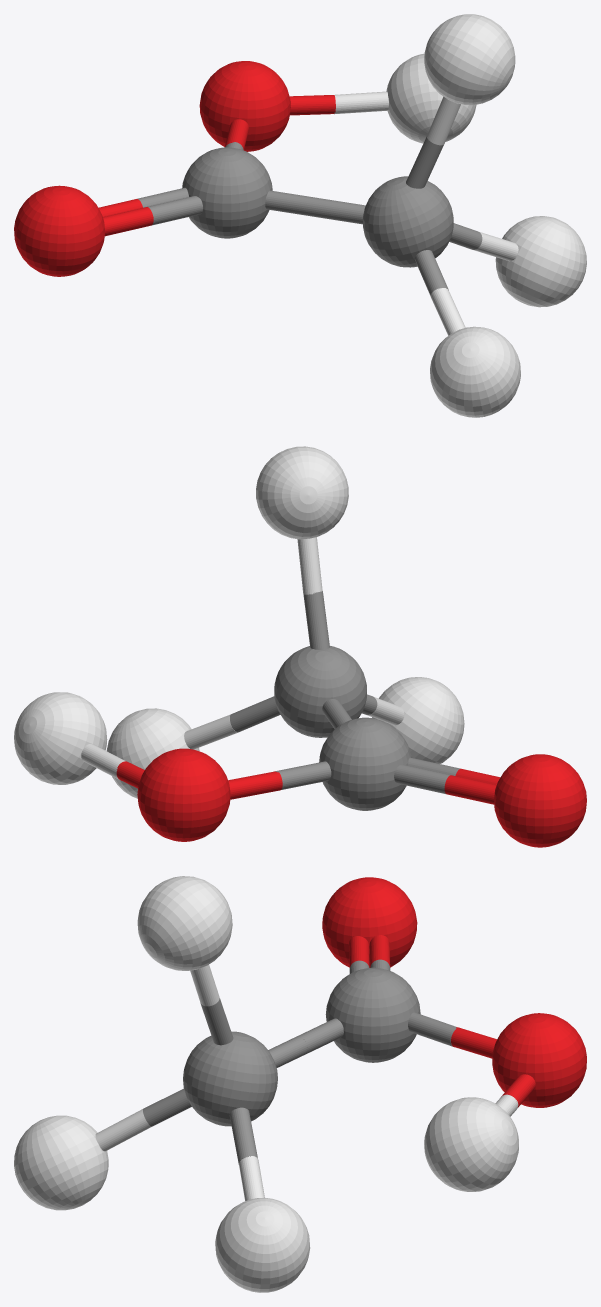
Rendered from aceticacid.fbx.
The picture shows the model from 3 angles, top to bottom: view 1: azimuth 30°, elevation 25°; view 2: azimuth 150°, elevation 25°; view 3: azimuth 270°, elevation 25°; orthographic projection. The views are drawn at different scales.
Visible parts, largest first — view 1: Sphere.015, Sphere.010, Sphere.013, Sphere.002, Sphere.001, Sphere.004, Sphere.000, Sphere.006, Cylinder.012, Cylinder.003, Cylinder.005, Cylinder.028 (+9 smaller); view 2: Sphere.010, Sphere.000, Sphere.015, Sphere.006, Sphere.004, Sphere.001, Sphere.013, Sphere.002, Cylinder.028, Cylinder.029, Cylinder.002, Cylinder.000 (+6 smaller); view 3: Sphere.015, Sphere.002, Sphere.006, Sphere.013, Sphere.004, Sphere.001, Sphere.000, Sphere.010, Cylinder.031, Cylinder.022, Cylinder.030, Cylinder.007 (+7 smaller).
Boxes of the visible parts, x1,y1,x2,y2 form: Sphere.015: (424,14,515,105); Sphere.010: (14,185,104,276); Sphere.013: (430,326,520,417); Sphere.002: (495,216,586,307); Sphere.001: (363,176,453,267); Sphere.004: (182,147,272,238); Sphere.000: (199,61,290,151); Sphere.006: (386,53,476,143); Cylinder.012: (334,91,388,114); Cylinder.003: (147,196,202,225); Cylinder.005: (313,198,365,224); Cylinder.028: (406,136,443,188); Sphere.010: (494,754,586,847); Sphere.000: (137,748,230,841); Sphere.015: (256,446,348,539); Sphere.006: (14,692,107,784); Sphere.004: (319,717,411,810); Sphere.001: (274,646,366,737); Sphere.013: (372,677,464,763); Sphere.002: (106,708,199,798); Cylinder.028: (303,591,329,649); Cylinder.029: (297,537,322,594); Cylinder.002: (228,771,282,799); Cylinder.000: (394,764,450,793); Sphere.015: (137,876,232,970); Sphere.002: (215,1198,310,1292); Sphere.006: (424,1097,518,1191); Sphere.013: (14,1115,108,1210); Sphere.004: (325,967,420,1062); Sphere.001: (183,1031,277,1126); Sphere.000: (492,1013,586,1107); Sphere.010: (322,877,417,967); Cylinder.031: (95,1109,151,1151); Cylinder.022: (229,1107,257,1164); Cylinder.030: (143,1088,191,1126); Cylinder.007: (408,1012,456,1047).
Bounding box in the file's own units: 97.74 × 62.08 × 91.37.
